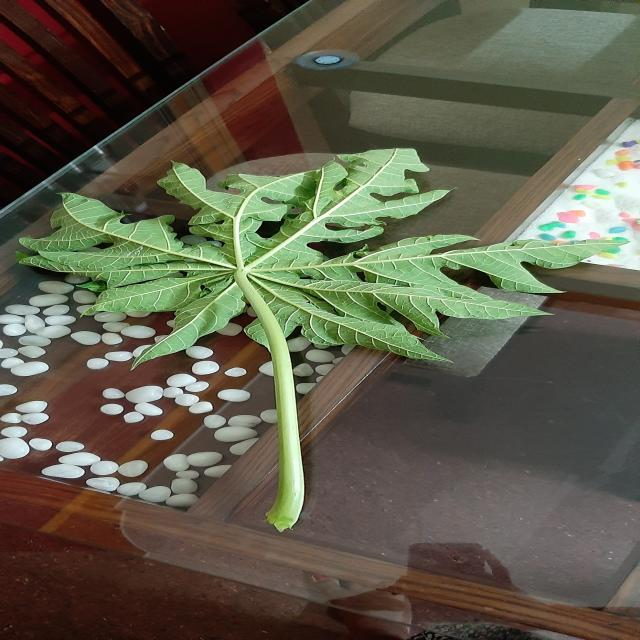leaf spot: (19, 149, 621, 438)
